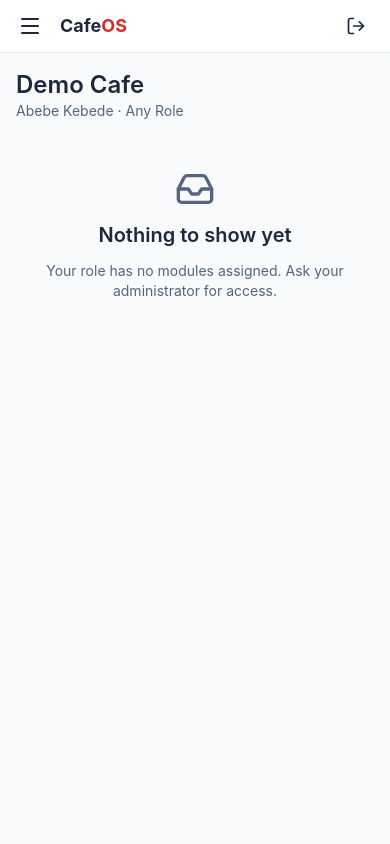
Test: mobile navigation › closes on Escape
Click the button named "Open navigation".
click(30, 26)  # box [8,4,52,48]
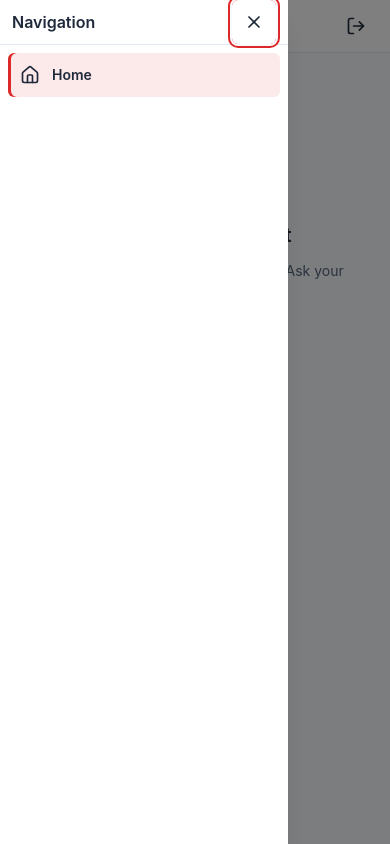
Expected: the dialog "Navigation" is shown
Press Escape
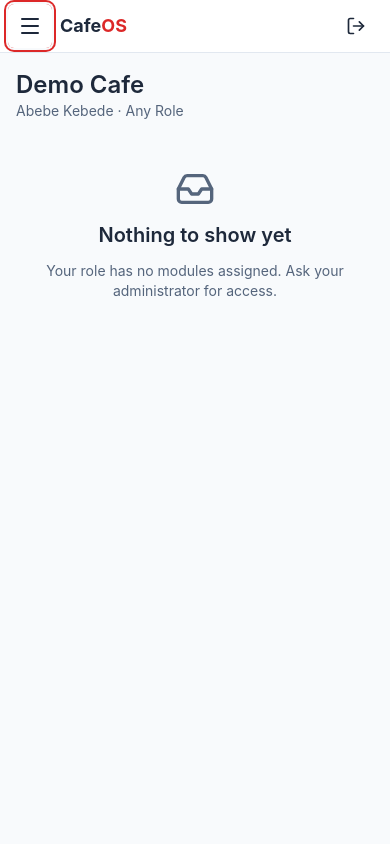
Expected: the dialog is gone
